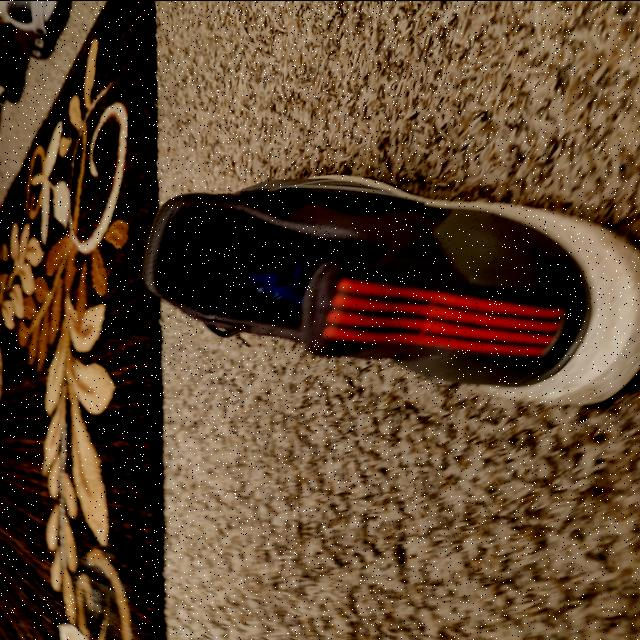black shoes: (146, 188, 640, 406)
